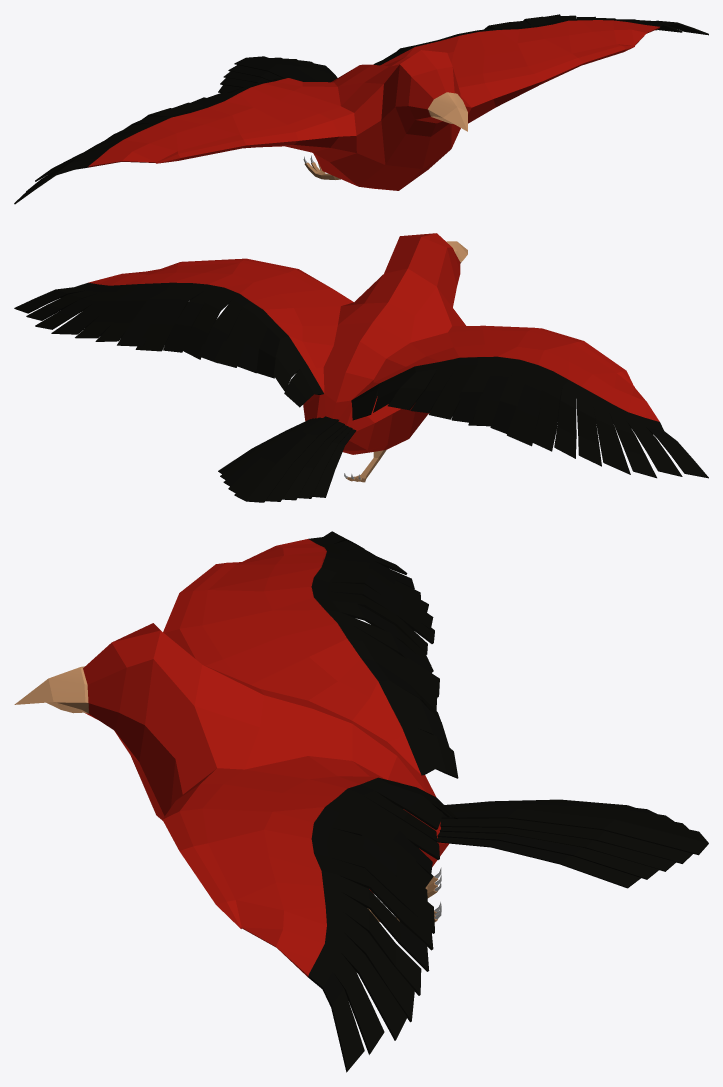
3 views of the same model, one above another, from view 1: azimuth 30°, elevation 25°; view 2: azimuth 150°, elevation 25°; view 3: azimuth 270°, elevation 25° (orthographic). The views are drawn at different scales.
Parts seen in each view (by area): view 1: Body_High_Mesh.001, Cola_High_Mesh; view 2: Body_High_Mesh.001, Cola_High_Mesh; view 3: Body_High_Mesh.001, Cola_High_Mesh.
Boxes of the visible parts, x1=… form: Body_High_Mesh.001: x1=14, y1=14, x2=708, y2=204; Cola_High_Mesh: x1=218, y1=56, x2=337, y2=92; Body_High_Mesh.001: x1=14, y1=233, x2=708, y2=482; Cola_High_Mesh: x1=218, y1=416, x2=356, y2=502; Body_High_Mesh.001: x1=14, y1=531, x2=458, y2=1072; Cola_High_Mesh: x1=436, y1=799, x2=708, y2=888.
Bounding box in the file's own units: 0.2796 × 0.0693 × 0.1547.
